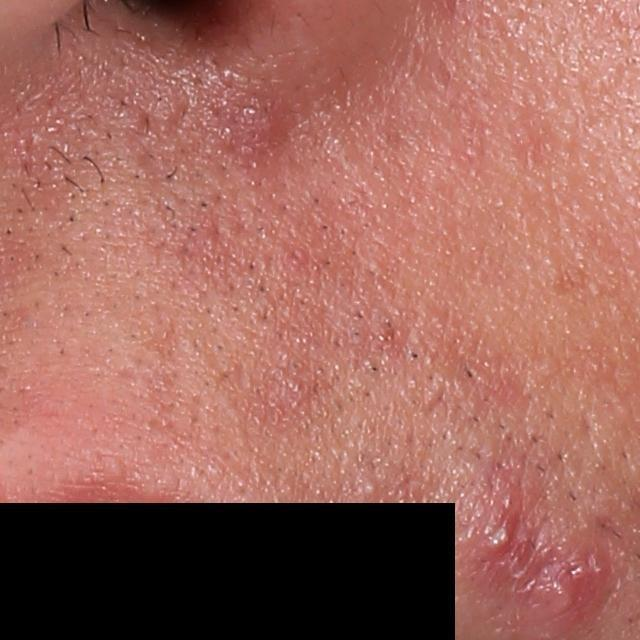comedo: (361, 479, 384, 497)
papule: (523, 547, 609, 621), (241, 93, 289, 153)
